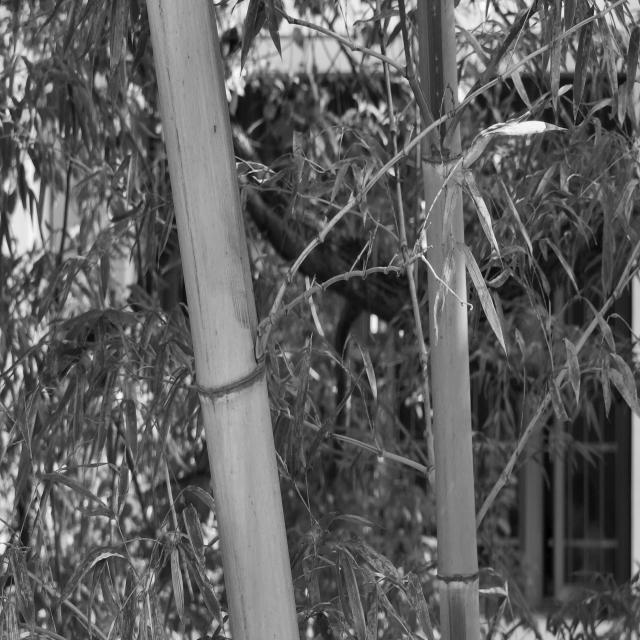Bamboo-shoots: (146, 0, 299, 640), (417, 0, 480, 640)
